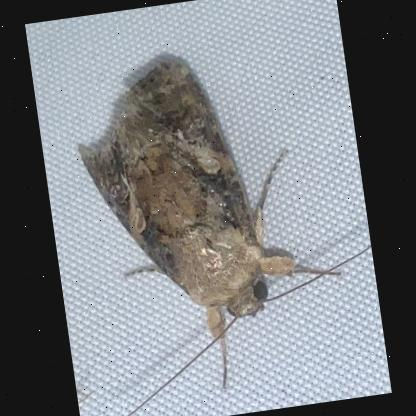Fall Armyworm Moth: (61, 31, 391, 416)
